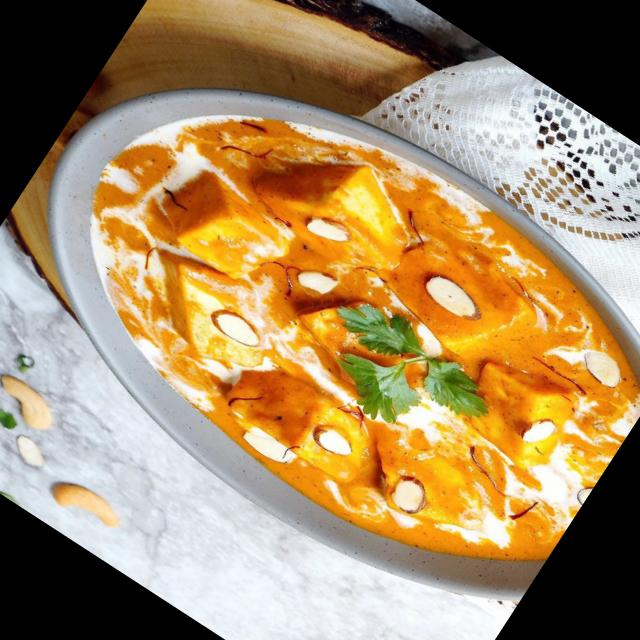ShahiPaneer: (0, 21, 640, 620)
